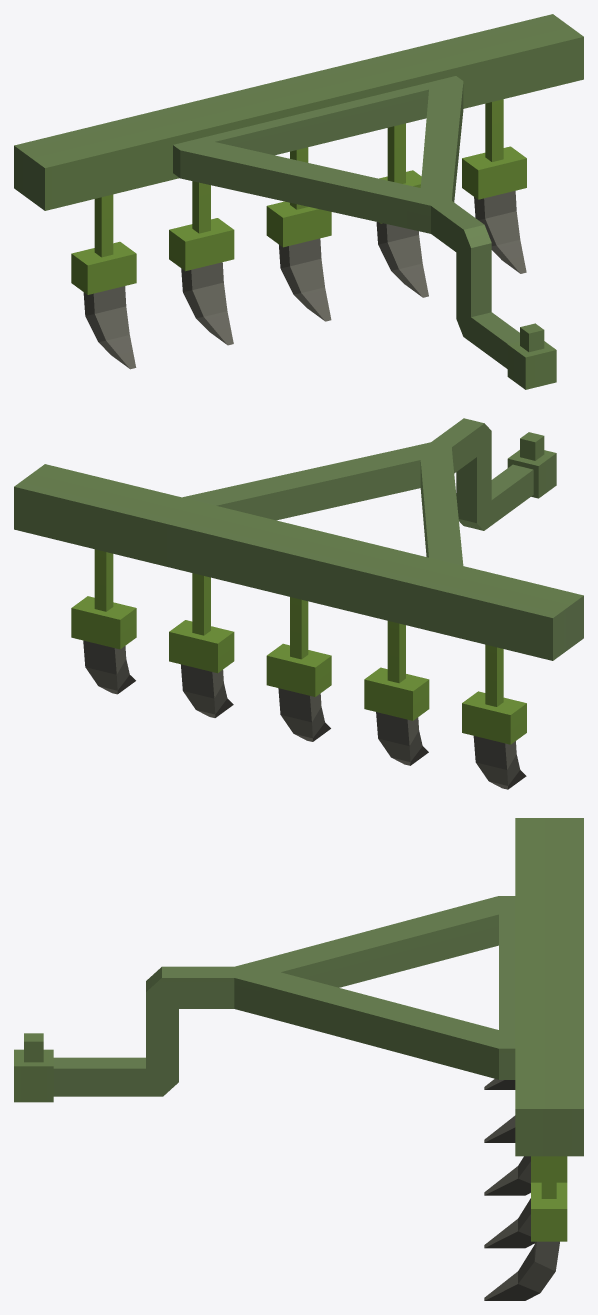
The model's file is Cultivator_01.fbx.
3 renders of one model, top to bottom at view 1: azimuth 30°, elevation 25°; view 2: azimuth 150°, elevation 25°; view 3: azimuth 270°, elevation 25°, orthographic. The views are drawn at different scales.
Parts seen in each view (by area): view 1: Cultivator_01; view 2: Cultivator_01; view 3: Cultivator_01.
Boxes of the visible parts, x1,y1,x2,y2 form: Cultivator_01: (14,14,583,389); Cultivator_01: (14,418,583,789); Cultivator_01: (14,818,583,1300).
Bounding box in the file's own units: 1.91 × 0.7036 × 1.58.
